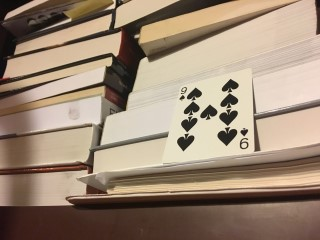NineOfSpades: (162, 67, 255, 164)
